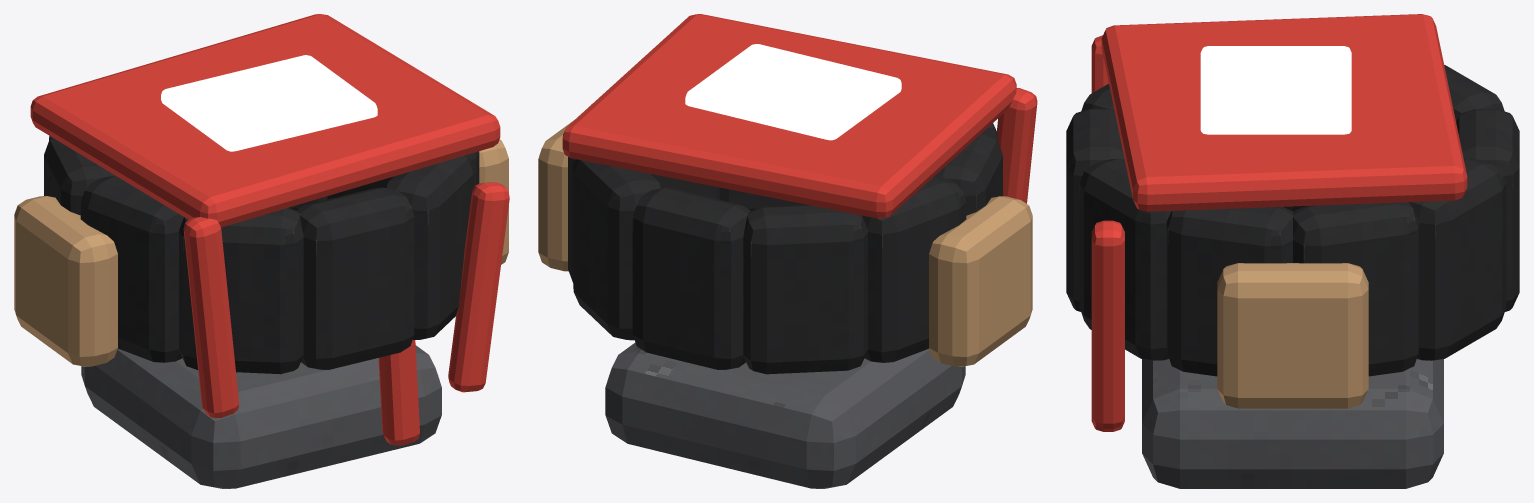
The model's file is cult_bleeding_offering_bowl.glb.
3 renders of one model, left to right at view 1: azimuth 30°, elevation 25°; view 2: azimuth 150°, elevation 25°; view 3: azimuth 270°, elevation 25°, orthographic. The views are drawn at different scales.
Parts seen in each view (by area): view 1: CULT_BLEEDING_OFFERING_BOWL__Fluid_Surface, CULT_BLEEDING_OFFERING_BOWL__Stone_Base, CULT_BLEEDING_OFFERING_BOWL__Bowl_Steel_06, CULT_BLEEDING_OFFERING_BOWL__Clamp_L, CULT_BLEEDING_OFFERING_BOWL__Bowl_Steel_07, CULT_BLEEDING_OFFERING_BOWL__Pulse_Channel, CULT_BLEEDING_OFFERING_BOWL__Bowl_Steel_08, CULT_BLEEDING_OFFERING_BOWL__Bowl_Steel_05, CULT_BLEEDING_OFFERING_BOWL__Fluid_Stream_2, CULT_BLEEDING_OFFERING_BOWL__Fluid_Stream_1, CULT_BLEEDING_OFFERING_BOWL__Fluid_Stream_3, CULT_BLEEDING_OFFERING_BOWL__Bowl_Steel_09 (+1 smaller); view 2: CULT_BLEEDING_OFFERING_BOWL__Fluid_Surface, CULT_BLEEDING_OFFERING_BOWL__Stone_Base, CULT_BLEEDING_OFFERING_BOWL__Bowl_Steel_10, CULT_BLEEDING_OFFERING_BOWL__Bowl_Steel_01, CULT_BLEEDING_OFFERING_BOWL__Clamp_L, CULT_BLEEDING_OFFERING_BOWL__Pulse_Channel, CULT_BLEEDING_OFFERING_BOWL__Bowl_Steel_09, CULT_BLEEDING_OFFERING_BOWL__Bowl_Steel_02, CULT_BLEEDING_OFFERING_BOWL__Clamp_R, CULT_BLEEDING_OFFERING_BOWL__Fluid_Stream_1, CULT_BLEEDING_OFFERING_BOWL__Bowl_Steel_08, CULT_BLEEDING_OFFERING_BOWL__Bowl_Steel_05 (+2 smaller); view 3: CULT_BLEEDING_OFFERING_BOWL__Fluid_Surface, CULT_BLEEDING_OFFERING_BOWL__Stone_Base, CULT_BLEEDING_OFFERING_BOWL__Clamp_R, CULT_BLEEDING_OFFERING_BOWL__Bowl_Steel_02, CULT_BLEEDING_OFFERING_BOWL__Pulse_Channel, CULT_BLEEDING_OFFERING_BOWL__Bowl_Steel_03, CULT_BLEEDING_OFFERING_BOWL__Bowl_Steel_04, CULT_BLEEDING_OFFERING_BOWL__Bowl_Steel_05, CULT_BLEEDING_OFFERING_BOWL__Fluid_Stream_2, CULT_BLEEDING_OFFERING_BOWL__Bowl_Steel_01, CULT_BLEEDING_OFFERING_BOWL__Bowl_Steel_06, CULT_BLEEDING_OFFERING_BOWL__Bowl_Steel_10 (+2 smaller).
Part boxes in pixels (x1=…): CULT_BLEEDING_OFFERING_BOWL__Fluid_Surface: x1=30, y1=14, x2=500, y2=227; CULT_BLEEDING_OFFERING_BOWL__Stone_Base: x1=81, y1=345, x2=441, y2=488; CULT_BLEEDING_OFFERING_BOWL__Bowl_Steel_06: x1=296, y1=187, x2=414, y2=369; CULT_BLEEDING_OFFERING_BOWL__Clamp_L: x1=14, y1=196, x2=117, y2=366; CULT_BLEEDING_OFFERING_BOWL__Bowl_Steel_07: x1=179, y1=207, x2=303, y2=374; CULT_BLEEDING_OFFERING_BOWL__Pulse_Channel: x1=161, y1=55, x2=377, y2=151; CULT_BLEEDING_OFFERING_BOWL__Bowl_Steel_08: x1=80, y1=176, x2=183, y2=362; CULT_BLEEDING_OFFERING_BOWL__Bowl_Steel_05: x1=385, y1=154, x2=473, y2=339; CULT_BLEEDING_OFFERING_BOWL__Fluid_Stream_2: x1=448, y1=182, x2=509, y2=392; CULT_BLEEDING_OFFERING_BOWL__Fluid_Stream_1: x1=183, y1=217, x2=239, y2=417; CULT_BLEEDING_OFFERING_BOWL__Fluid_Stream_3: x1=378, y1=340, x2=419, y2=445; CULT_BLEEDING_OFFERING_BOWL__Bowl_Steel_09: x1=44, y1=137, x2=115, y2=215; CULT_BLEEDING_OFFERING_BOWL__Fluid_Surface: x1=562, y1=14, x2=1016, y2=218; CULT_BLEEDING_OFFERING_BOWL__Stone_Base: x1=605, y1=342, x2=965, y2=488; CULT_BLEEDING_OFFERING_BOWL__Bowl_Steel_10: x1=743, y1=205, x2=867, y2=374; CULT_BLEEDING_OFFERING_BOWL__Bowl_Steel_01: x1=632, y1=188, x2=750, y2=369; CULT_BLEEDING_OFFERING_BOWL__Clamp_L: x1=929, y1=196, x2=1032, y2=366; CULT_BLEEDING_OFFERING_BOWL__Pulse_Channel: x1=685, y1=44, x2=901, y2=140; CULT_BLEEDING_OFFERING_BOWL__Bowl_Steel_09: x1=862, y1=176, x2=966, y2=362; CULT_BLEEDING_OFFERING_BOWL__Bowl_Steel_02: x1=573, y1=159, x2=661, y2=340; CULT_BLEEDING_OFFERING_BOWL__Clamp_R: x1=538, y1=120, x2=573, y2=271; CULT_BLEEDING_OFFERING_BOWL__Fluid_Stream_1: x1=997, y1=88, x2=1037, y2=203; CULT_BLEEDING_OFFERING_BOWL__Bowl_Steel_08: x1=934, y1=132, x2=1002, y2=215; CULT_BLEEDING_OFFERING_BOWL__Bowl_Steel_05: x1=719, y1=187, x2=807, y2=210; CULT_BLEEDING_OFFERING_BOWL__Fluid_Surface: x1=1101, y1=14, x2=1467, y2=211; CULT_BLEEDING_OFFERING_BOWL__Stone_Base: x1=1142, y1=359, x2=1443, y2=488; CULT_BLEEDING_OFFERING_BOWL__Clamp_R: x1=1217, y1=263, x2=1368, y2=408; CULT_BLEEDING_OFFERING_BOWL__Bowl_Steel_02: x1=1409, y1=158, x2=1506, y2=360; CULT_BLEEDING_OFFERING_BOWL__Pulse_Channel: x1=1200, y1=46, x2=1351, y2=134; CULT_BLEEDING_OFFERING_BOWL__Bowl_Steel_03: x1=1293, y1=202, x2=1419, y2=376; CULT_BLEEDING_OFFERING_BOWL__Bowl_Steel_04: x1=1166, y1=207, x2=1292, y2=376; CULT_BLEEDING_OFFERING_BOWL__Bowl_Steel_05: x1=1079, y1=158, x2=1171, y2=360; CULT_BLEEDING_OFFERING_BOWL__Fluid_Stream_2: x1=1091, y1=220, x2=1124, y2=428; CULT_BLEEDING_OFFERING_BOWL__Bowl_Steel_01: x1=1456, y1=109, x2=1519, y2=311; CULT_BLEEDING_OFFERING_BOWL__Bowl_Steel_06: x1=1066, y1=109, x2=1124, y2=311; CULT_BLEEDING_OFFERING_BOWL__Bowl_Steel_10: x1=1444, y1=65, x2=1504, y2=122.
Bounding box in the file's own units: 0.64 × 0.4705 × 0.54.
Materials: 5 (2 with a texture image).
